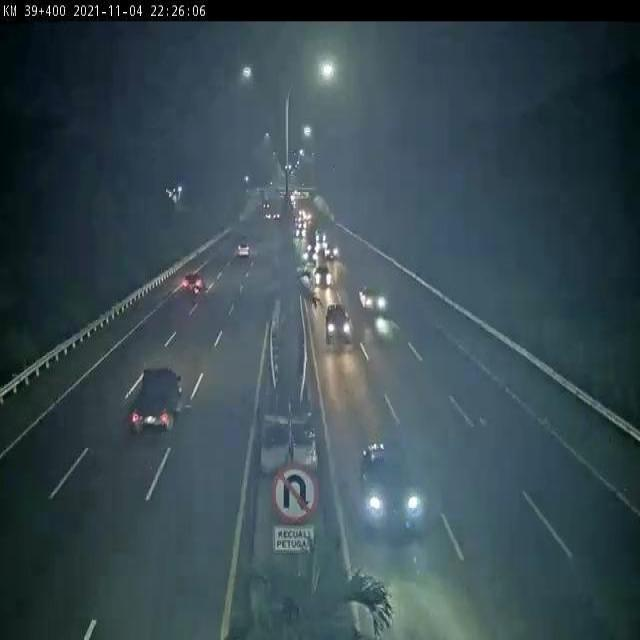Car: (362, 442, 425, 542), (356, 272, 398, 323), (174, 258, 213, 304), (320, 307, 357, 355), (312, 264, 336, 294), (233, 234, 255, 264)
Truck: (111, 358, 198, 449)
